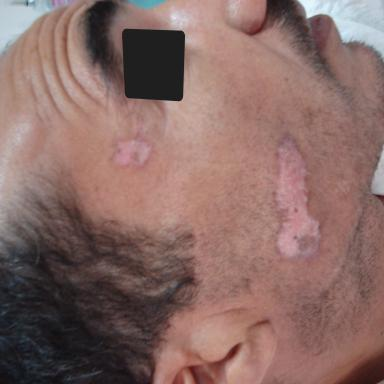Lupus-Erythematosus-Chronicus-Discoides: (276, 139, 320, 258), (114, 140, 151, 167)
